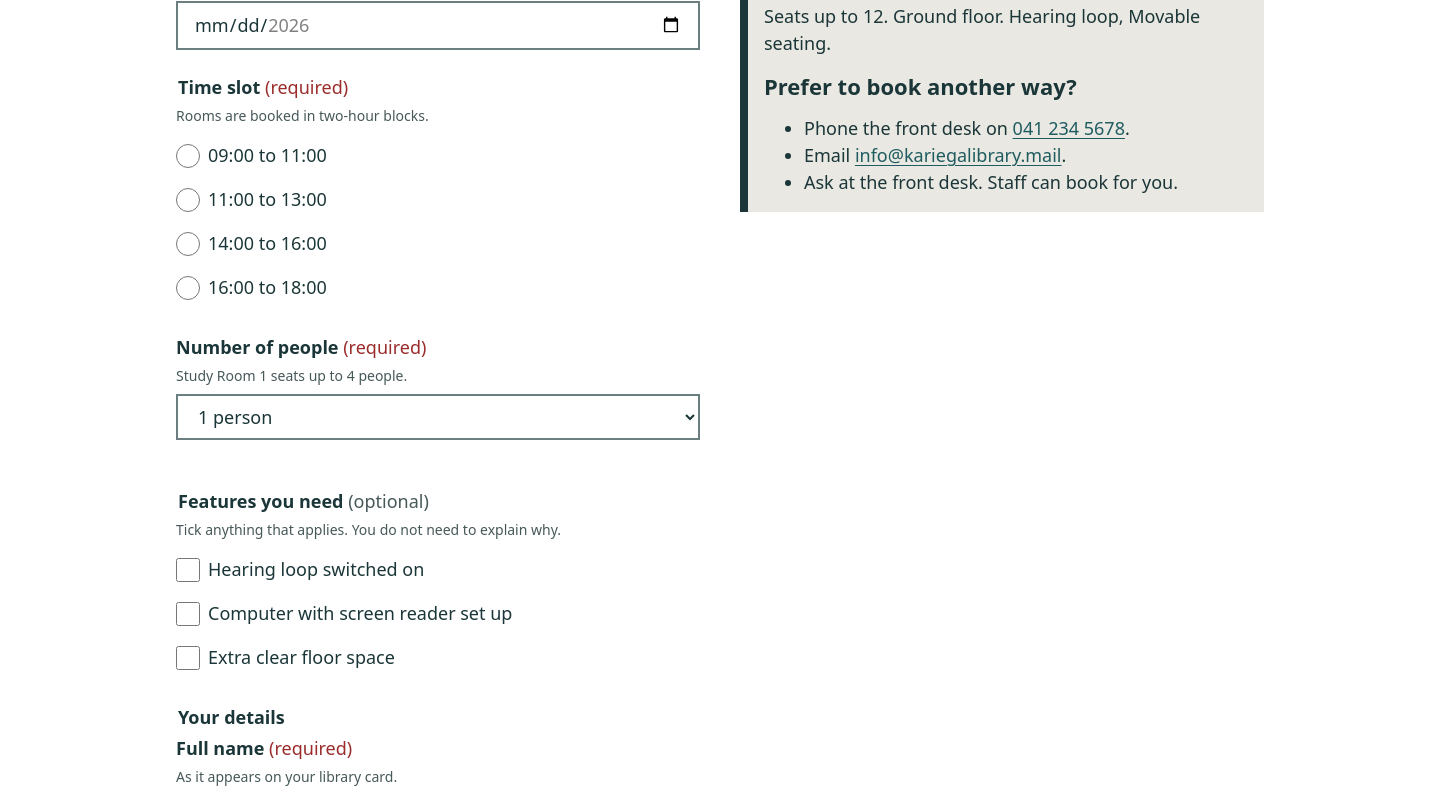
booking form › rejects too many people for the chosen room with a fixable message
The width and height of the screenshot is (1440, 795).
(page scrolled)
Select "5 people" in the dropdown labelled "Number of people (required)" at (438, 417), box [176,394,700,440]
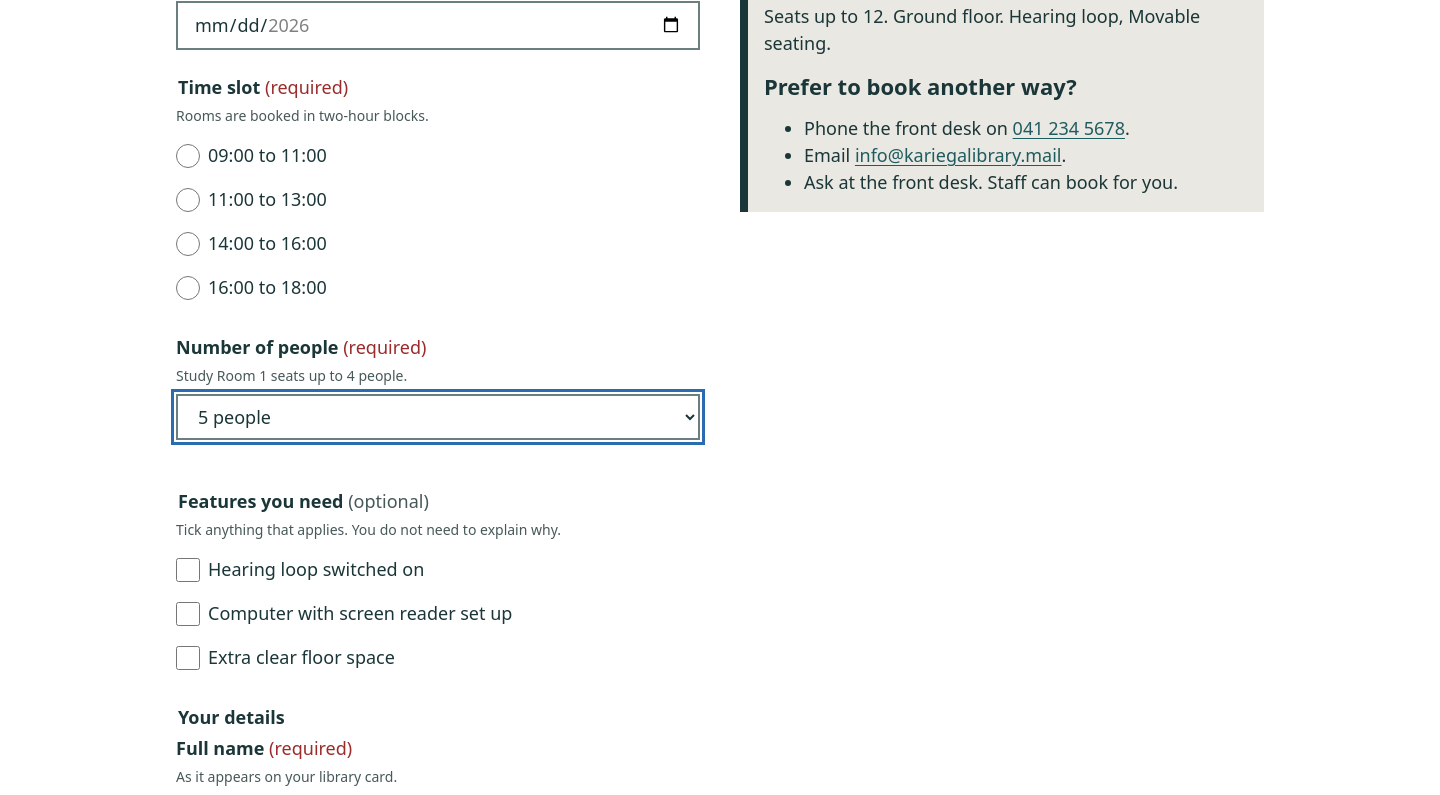
Press Tab
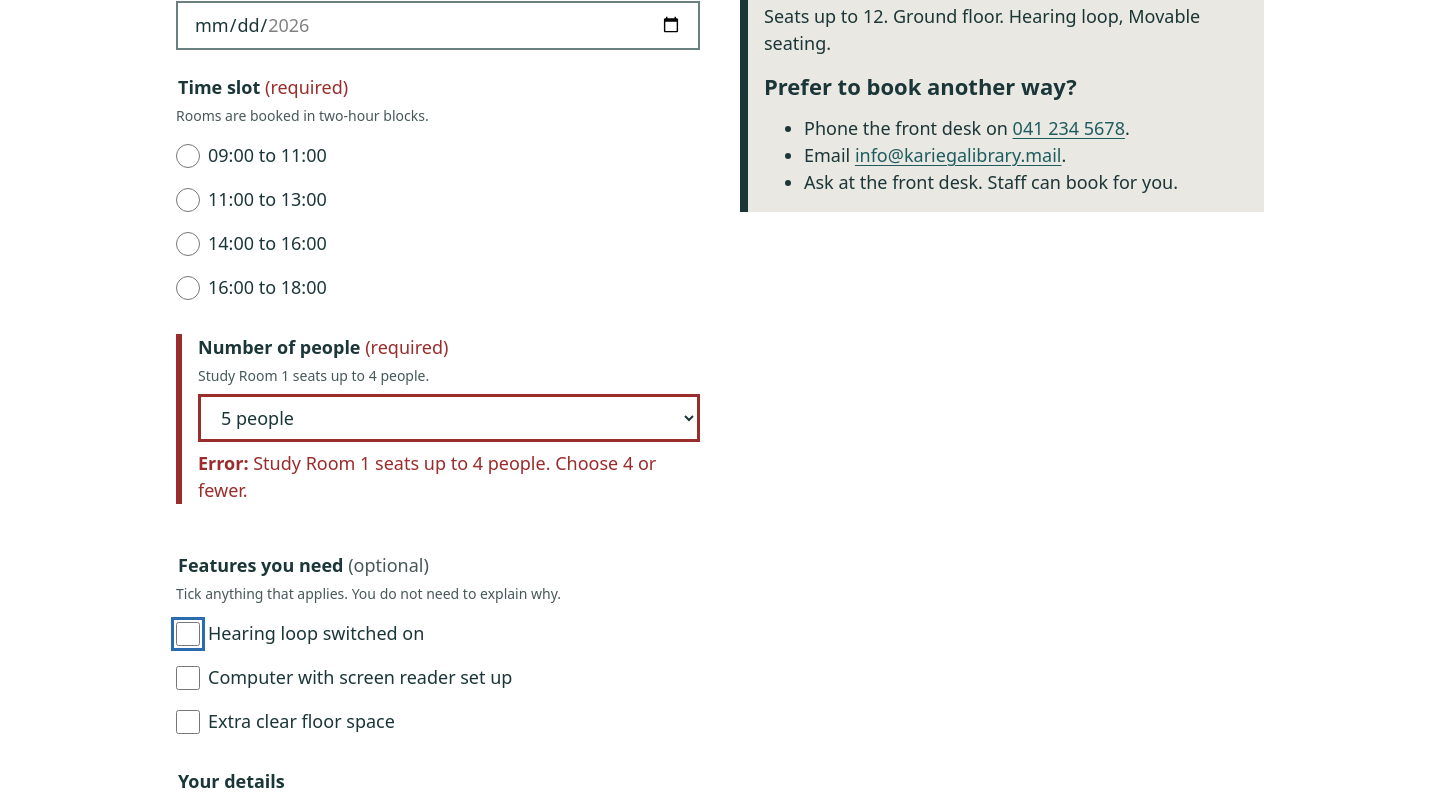
Now the text "Error: Study Room 1 seats up to 4 people. Choose 4 or fewer." is shown, box [198,450,700,504]
